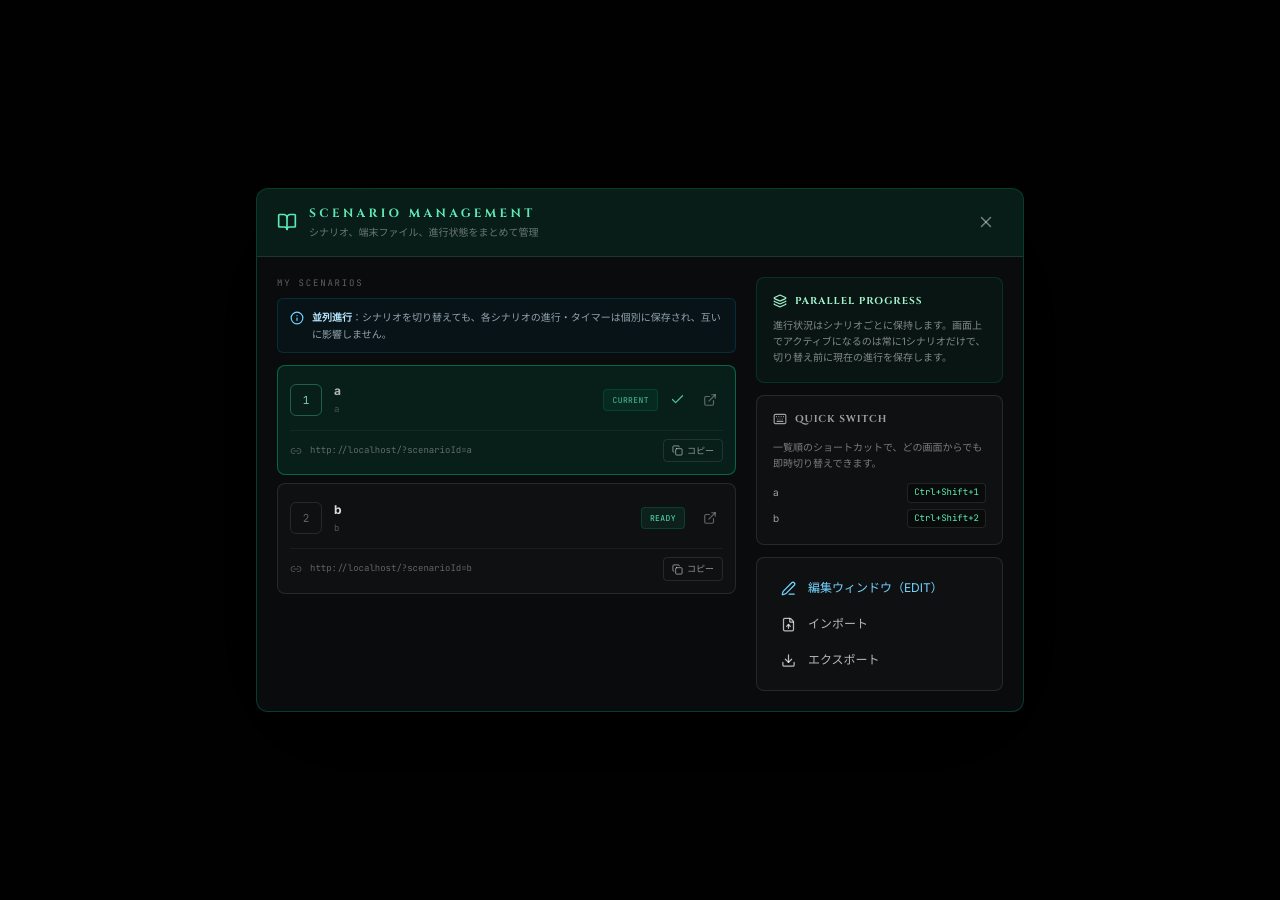
keeps the dialog open and blocks duplicate selections while switching is pending
The image size is (1280, 900).
Click the button "2 b b READY" at (306, 518), box [290,496,685,540]
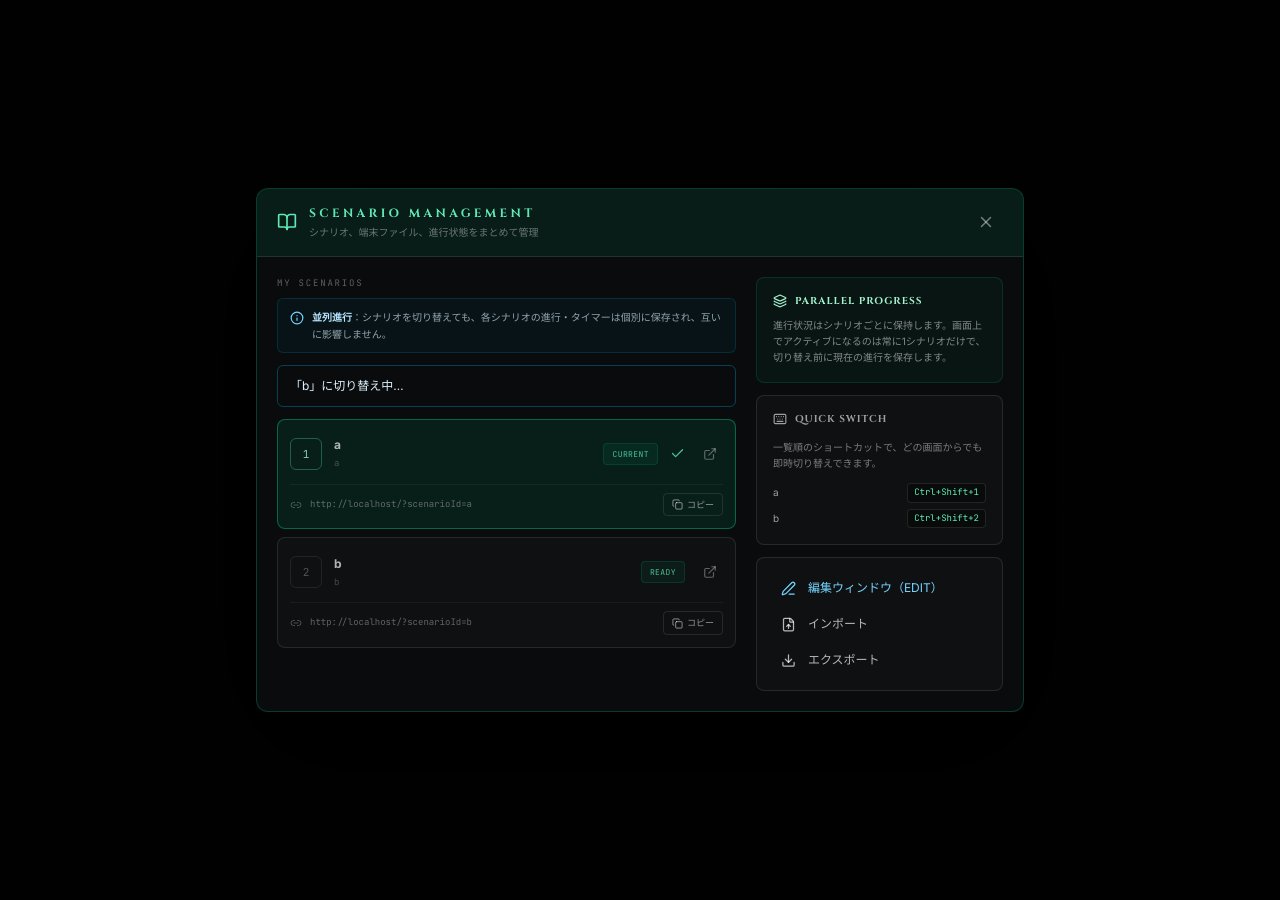
Expected: the button "2 b b READY" is disabled
Expected: the text "切り替え中" is shown, [290,378,404,393]
Click the button "2 b b READY" at (306, 572), box [290,550,685,594]
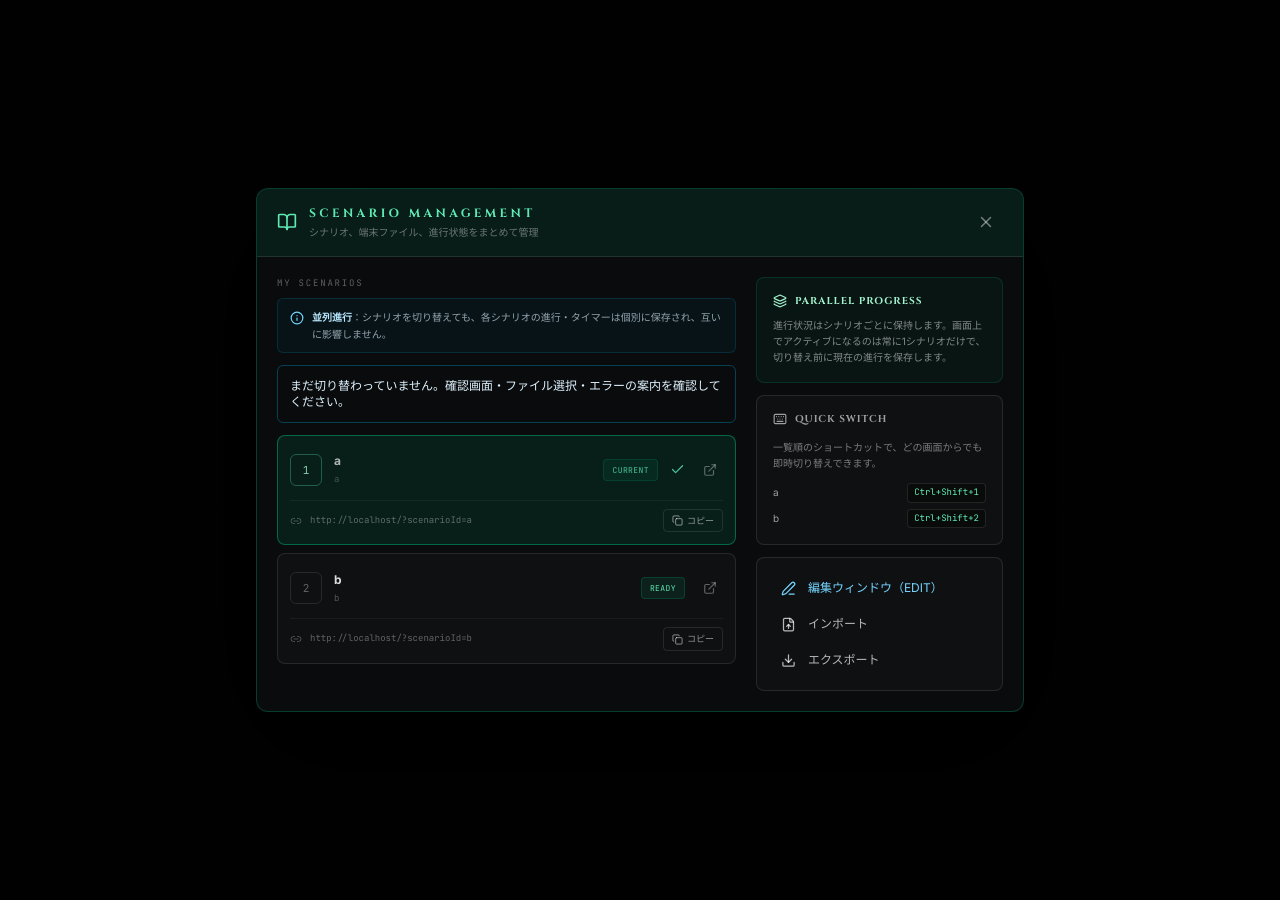
Expected: the button "2 b b READY" is enabled, [290,566,685,610]
Expected: the text "まだ切り替わっていません" is shown, [290,378,721,409]
